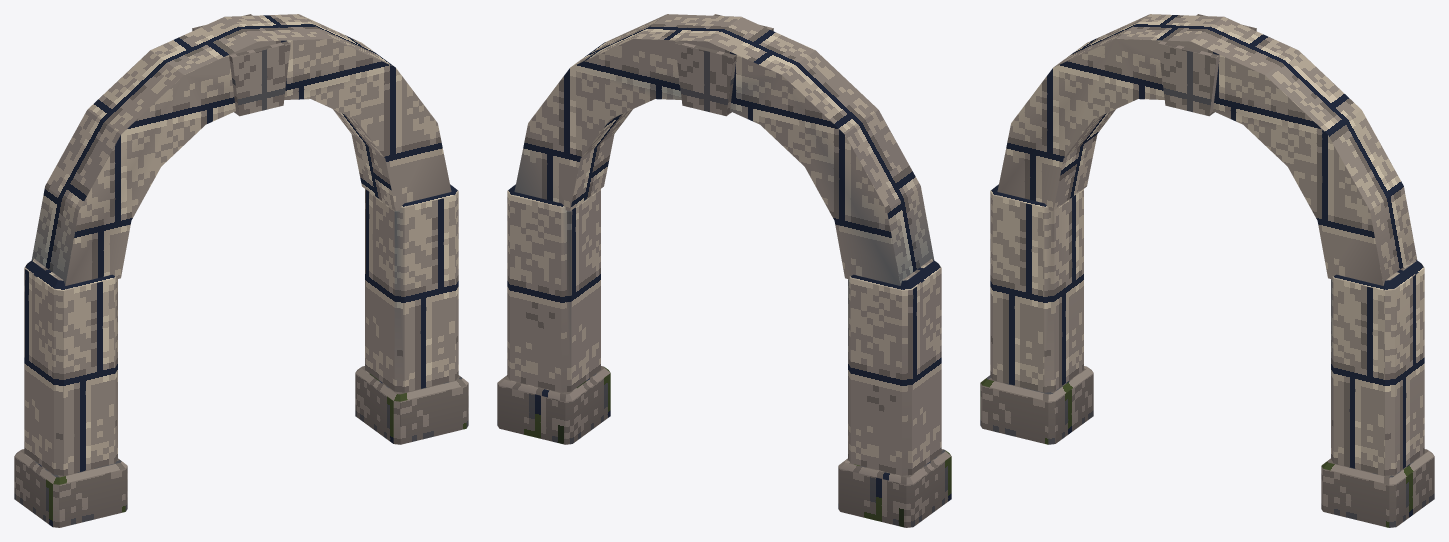
File: dgn.doorway__arch.glb
3 views of the same model, side by side, from view 1: azimuth 30°, elevation 25°; view 2: azimuth 150°, elevation 25°; view 3: azimuth 330°, elevation 25° (orthographic).
Visible parts, largest first — view 1: kit_piers, kit_head, kit_keystone; view 2: kit_piers, kit_head, kit_keystone; view 3: kit_piers, kit_head, kit_keystone.
Part boxes in pixels (x1,y1,x2,y2): kit_piers: (14, 184, 468, 527); kit_head: (31, 14, 451, 285); kit_keystone: (192, 14, 290, 116); kit_piers: (497, 184, 951, 527); kit_head: (514, 14, 934, 285); kit_keystone: (675, 14, 773, 116); kit_piers: (980, 184, 1434, 527); kit_head: (997, 14, 1417, 285); kit_keystone: (1158, 14, 1256, 116).
Bounding box in the file's own units: 4.54 × 4.52 × 0.82.
3 materials, 3 textured.
